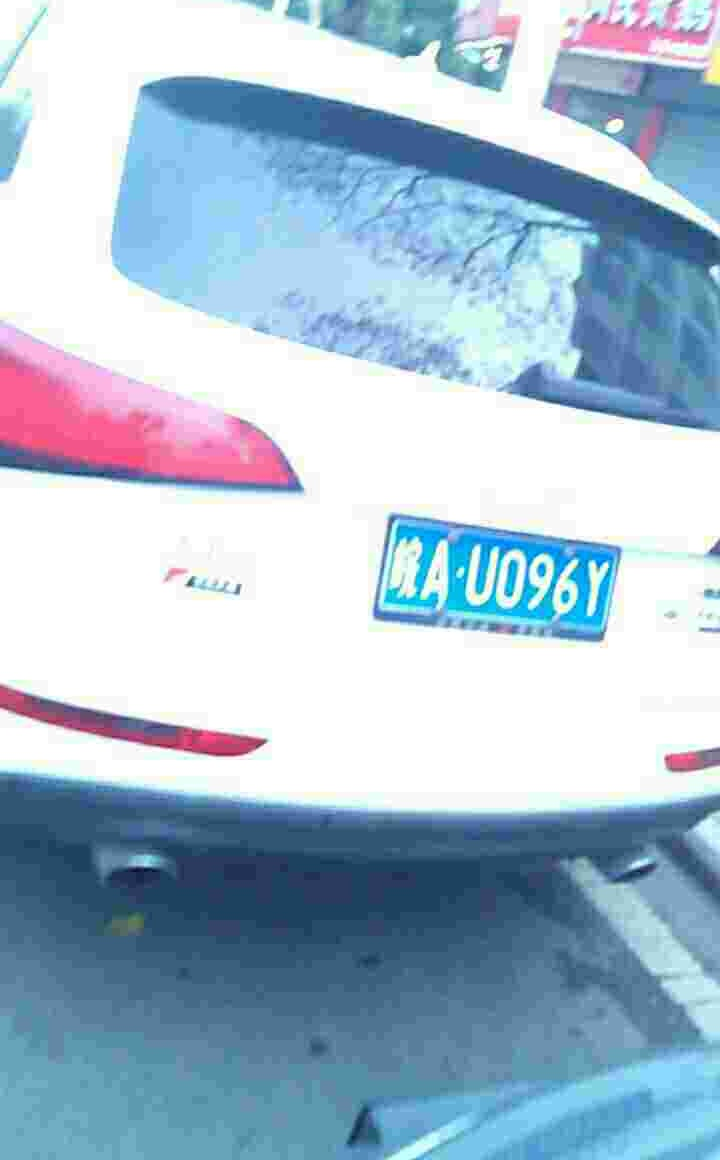license_plate: (376, 523, 628, 638)
